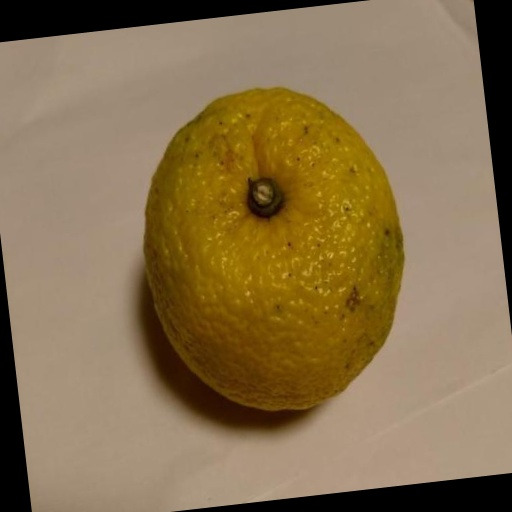fruit: (144, 88, 403, 410)
